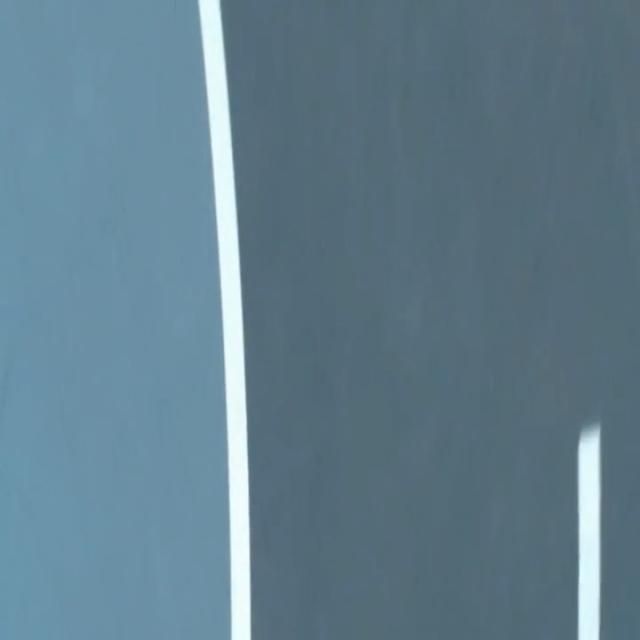center: (578, 424, 599, 639)
left: (197, 0, 251, 639)
